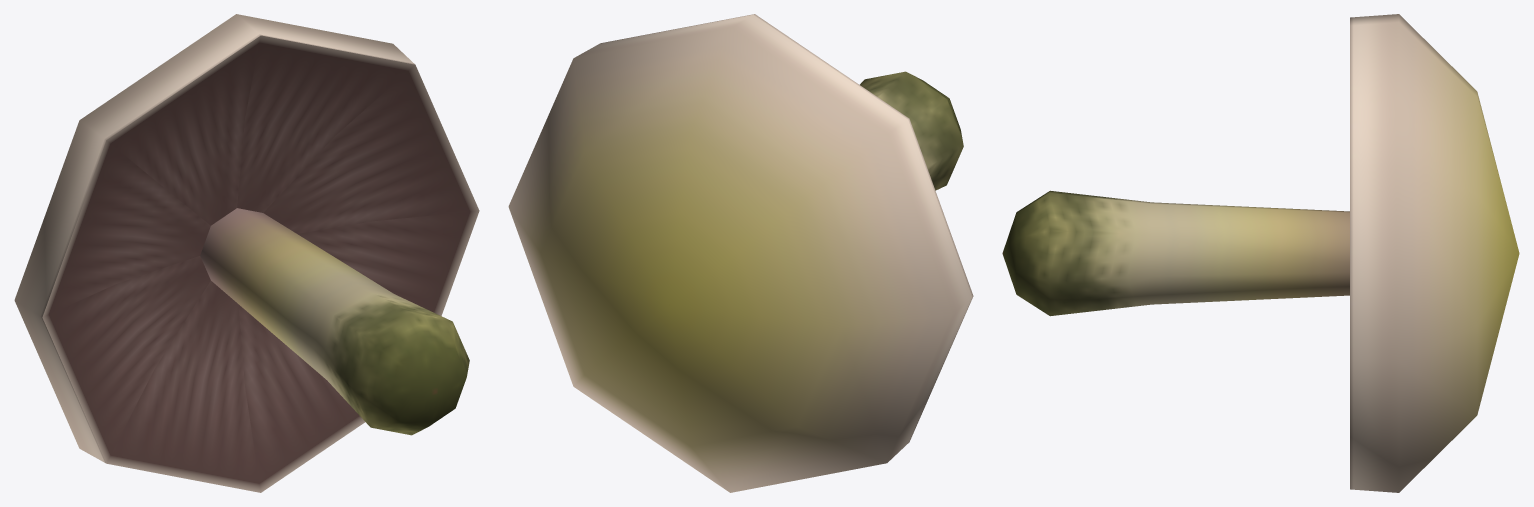
Rendered from Mushroom_A.fbx.
3 views of the same model, side by side, from view 1: azimuth 30°, elevation 25°; view 2: azimuth 150°, elevation 25°; view 3: azimuth 270°, elevation 25° (orthographic).
Parts seen in each view (by area): view 1: Mushroom_A; view 2: Mushroom_A; view 3: Mushroom_A.
Boxes of the visible parts, left/top/right/bottom form: Mushroom_A: left=14, top=14, right=479, bottom=492; Mushroom_A: left=508, top=14, right=973, bottom=492; Mushroom_A: left=1002, top=14, right=1519, bottom=492.
Size of the model in its own units: 27.23 by 27.23 by 27.62.
